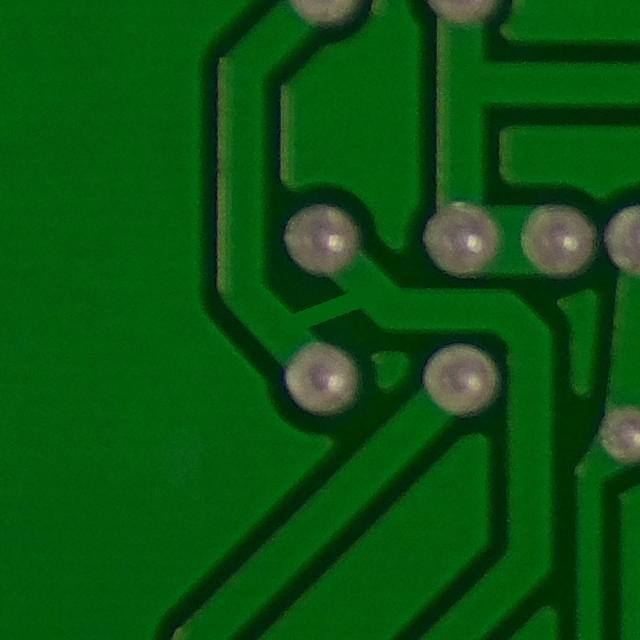short: (250, 266, 391, 375)
